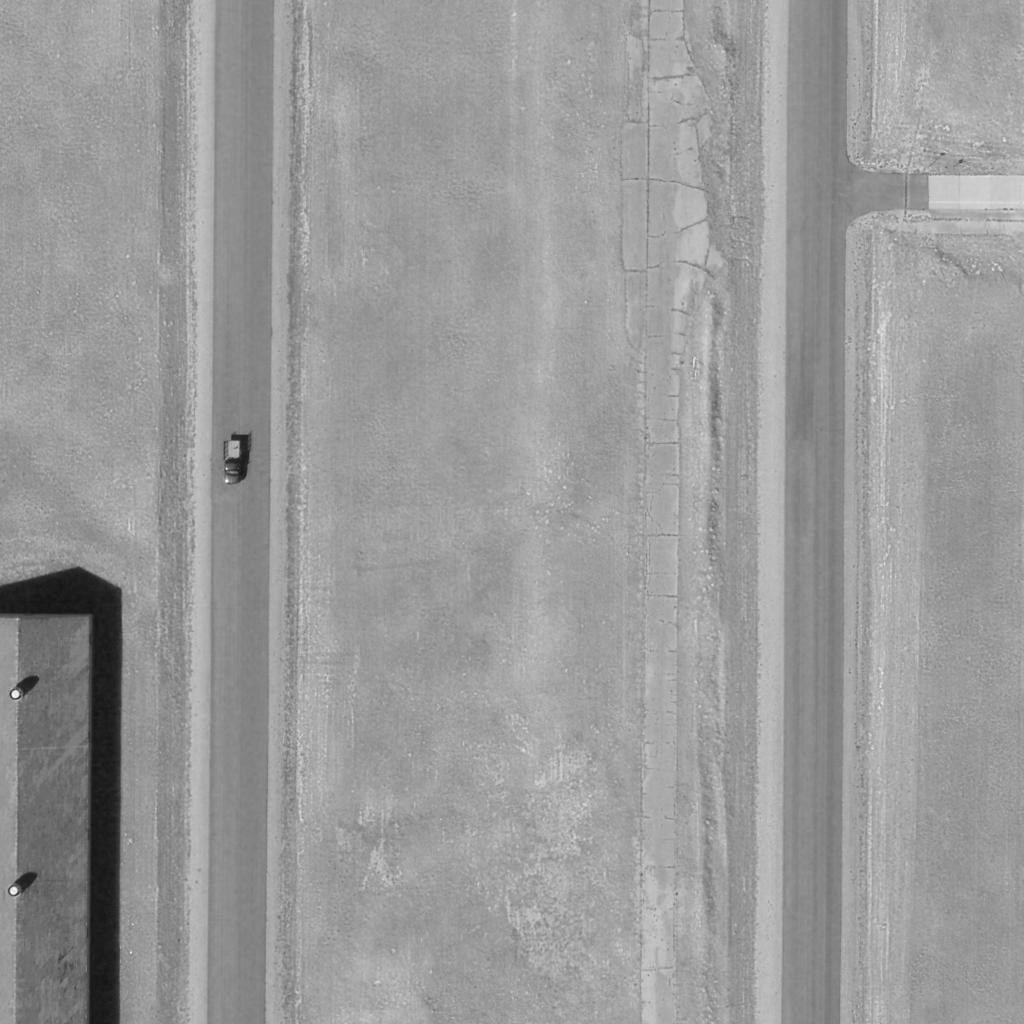vehicle: (224, 440, 240, 486)
